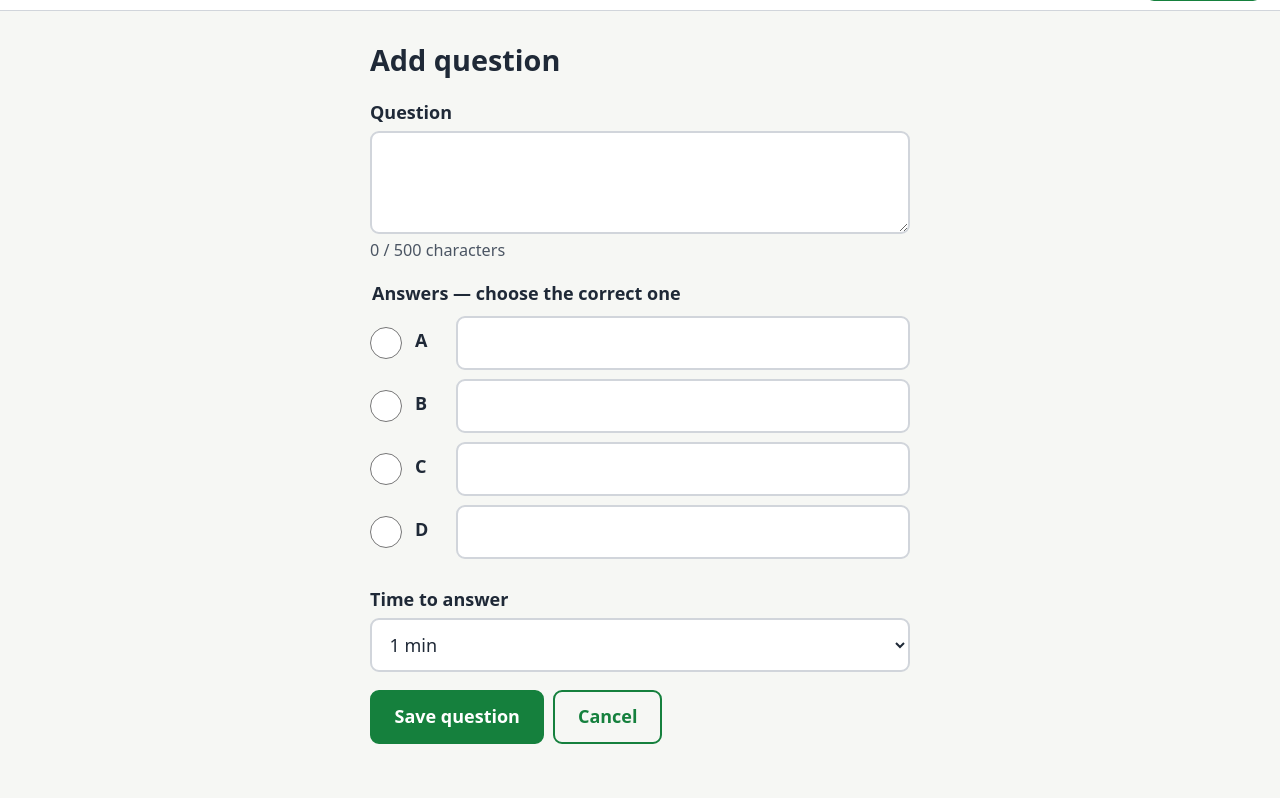
Test case: question bank › requires choosing the correct answer before saving
The width and height of the screenshot is (1280, 798).
(page scrolled)
Click the button "Save question".
click(457, 717)  # box [370,690,544,744]
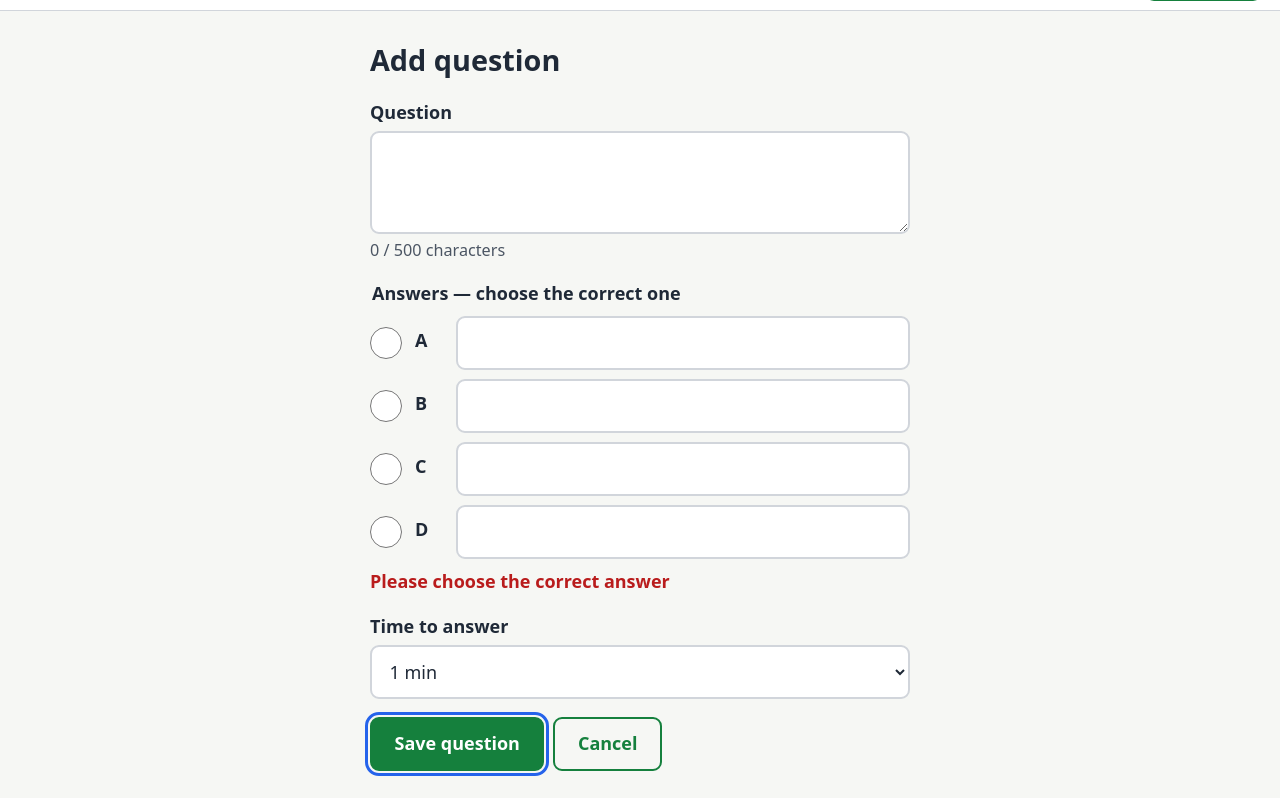
Result: the text "Please choose the correct answer" is shown at [370,570,670,594]
